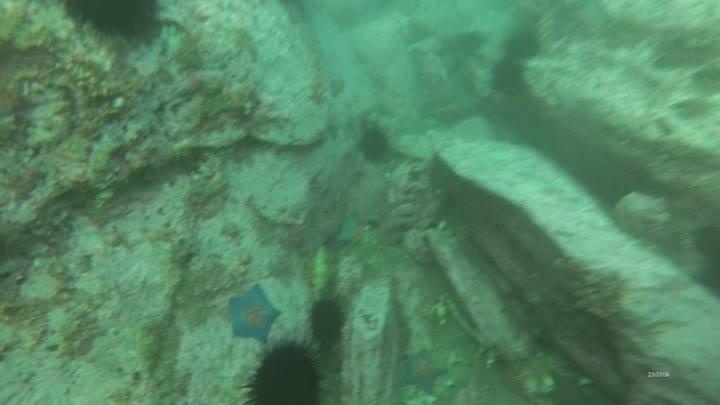echinus: (244, 340, 327, 405), (60, 1, 166, 47), (306, 295, 349, 347), (355, 122, 393, 165), (488, 58, 527, 97), (502, 28, 543, 63)
holothurian: (304, 242, 336, 301)
starfish: (224, 283, 283, 344), (397, 348, 451, 395), (544, 366, 597, 404), (332, 211, 369, 251)
